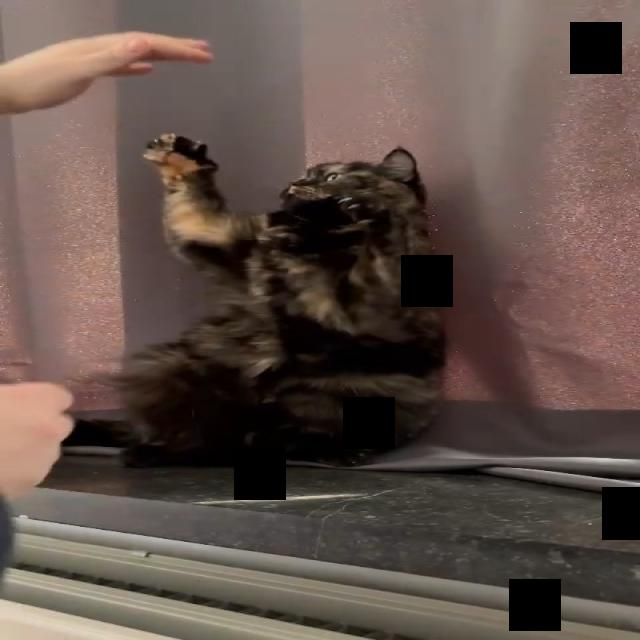authorized: (96, 132, 448, 468)
